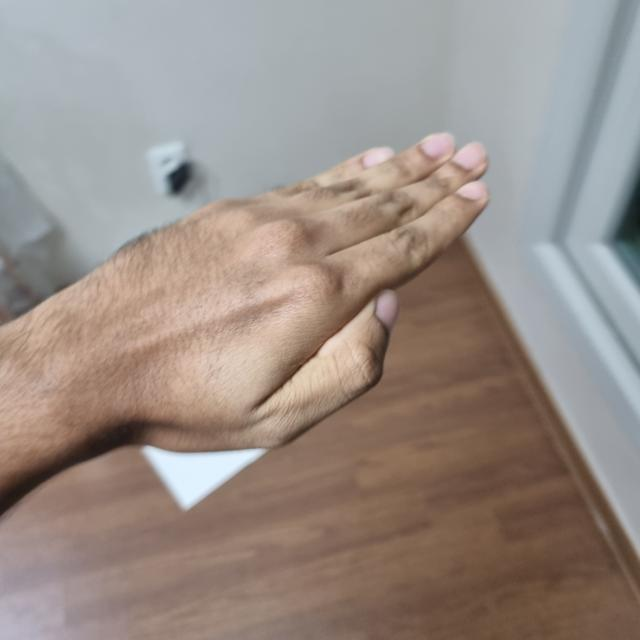Paper: (39, 138, 493, 450)
